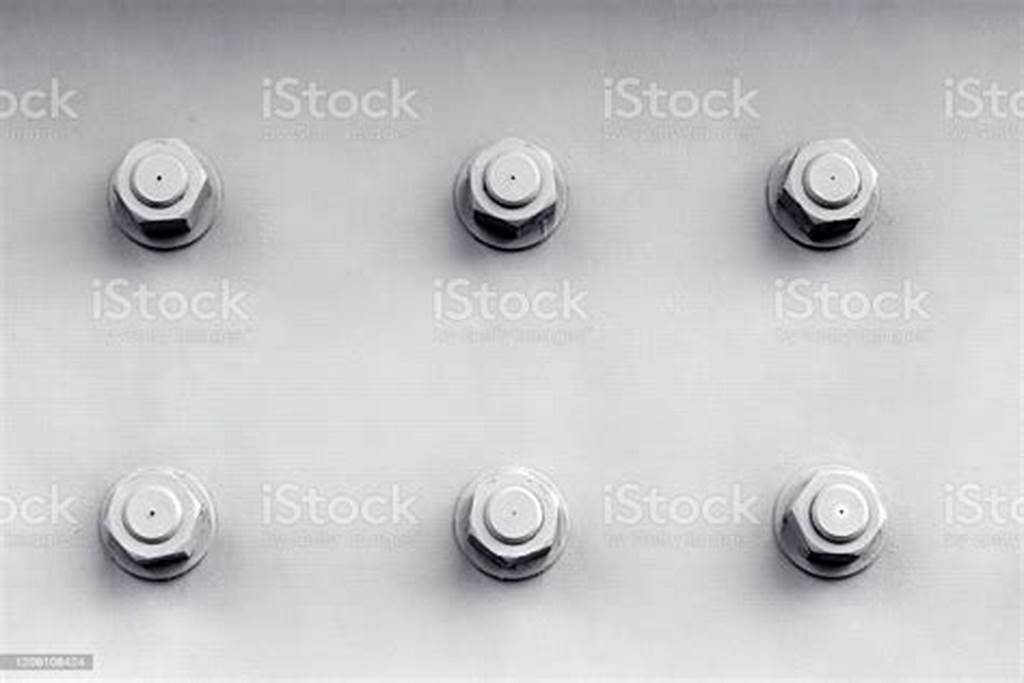bolt_b: (100, 464, 203, 571), (109, 135, 215, 238), (782, 466, 888, 566), (463, 469, 564, 571), (783, 133, 878, 241), (467, 132, 559, 234)
